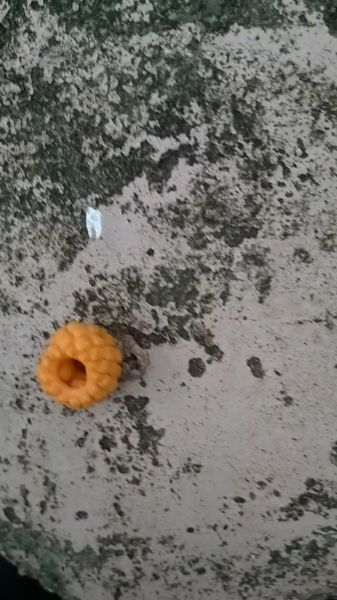eggs: (25, 316, 129, 416)
